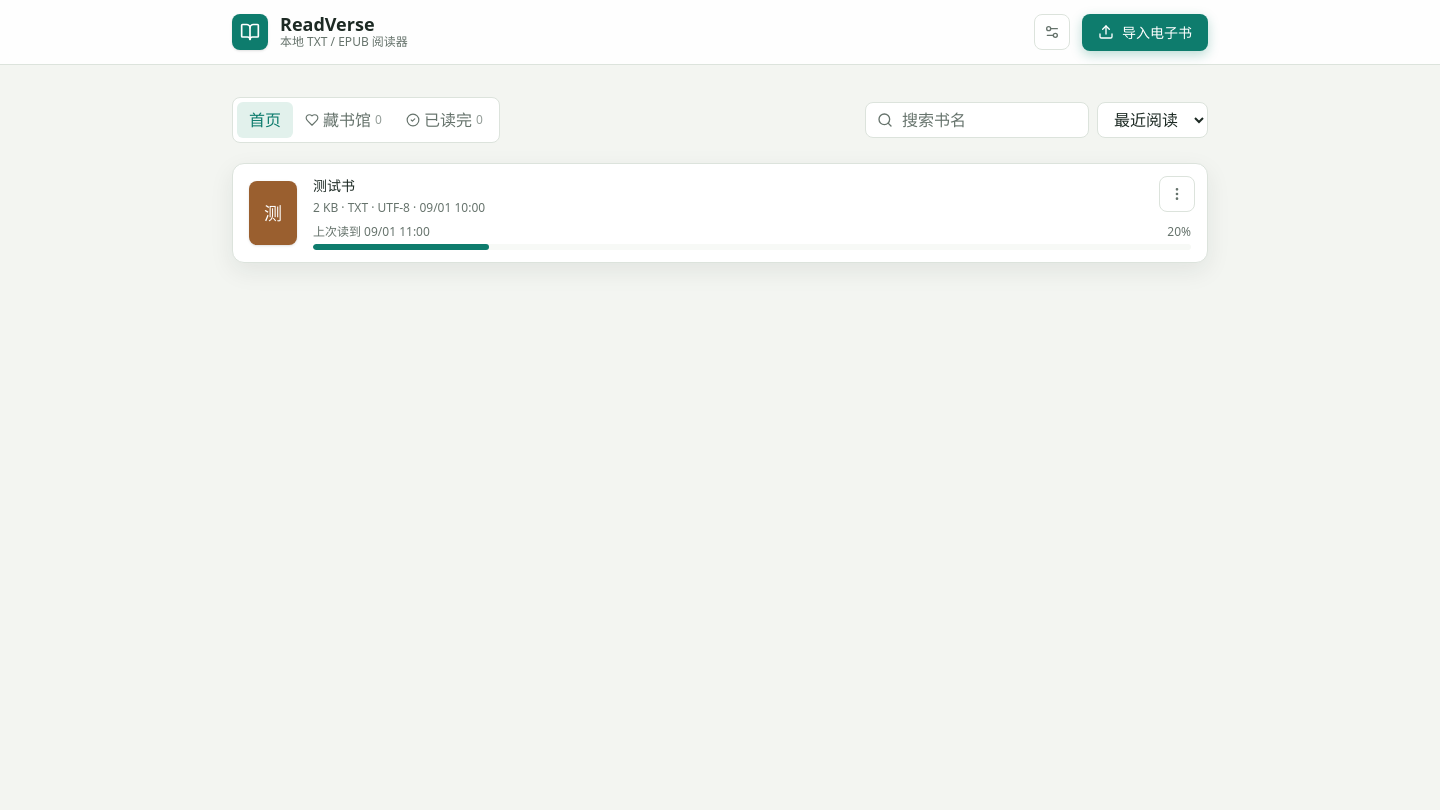
Shelf › opens reading settings from the shelf header
Check: the text "测试书" is shown, box [313,176,355,196]
Click the button titled "阅读设置".
click(1052, 32)  # box [1034,14,1070,50]
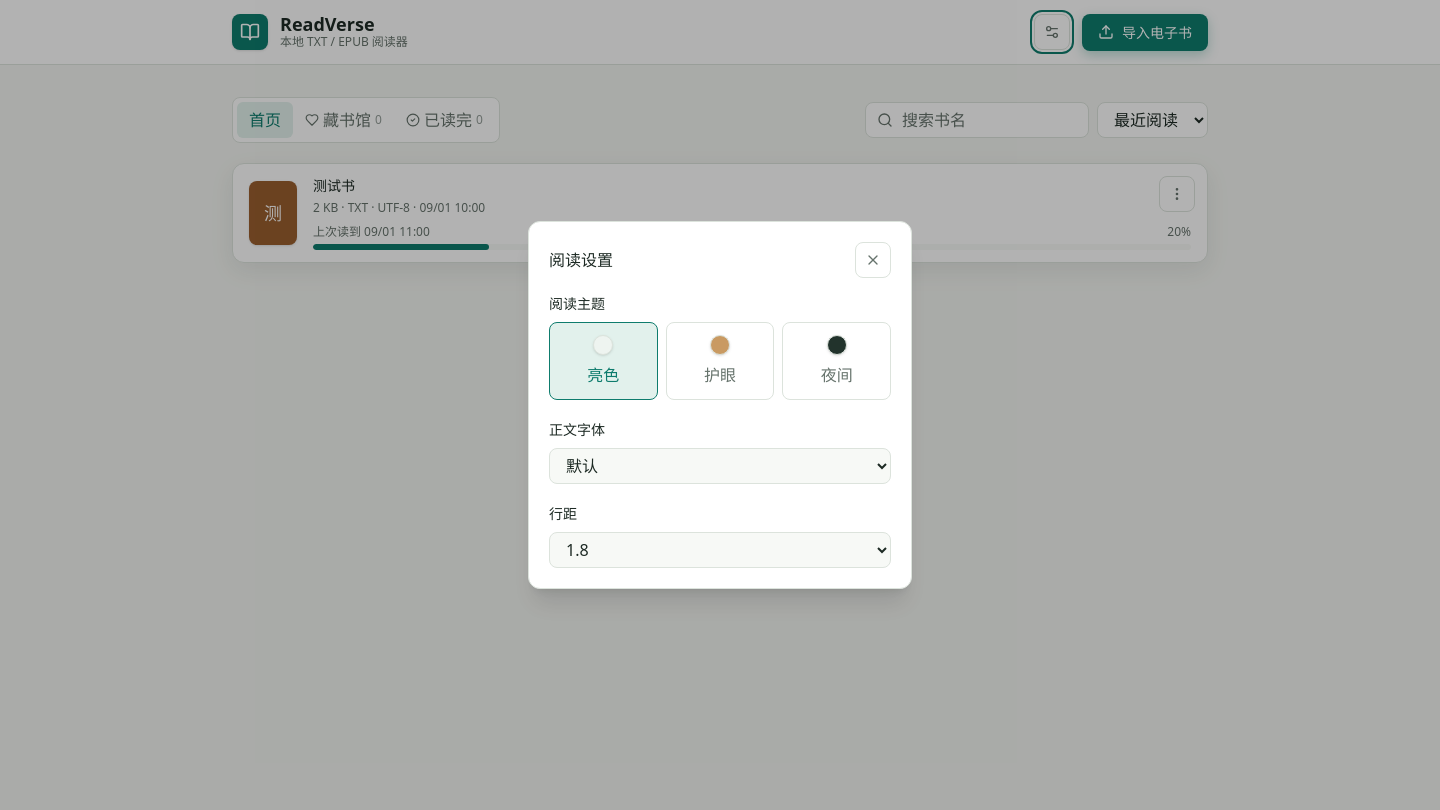
Check: the heading "阅读主题" is shown, box [549,294,605,313]
